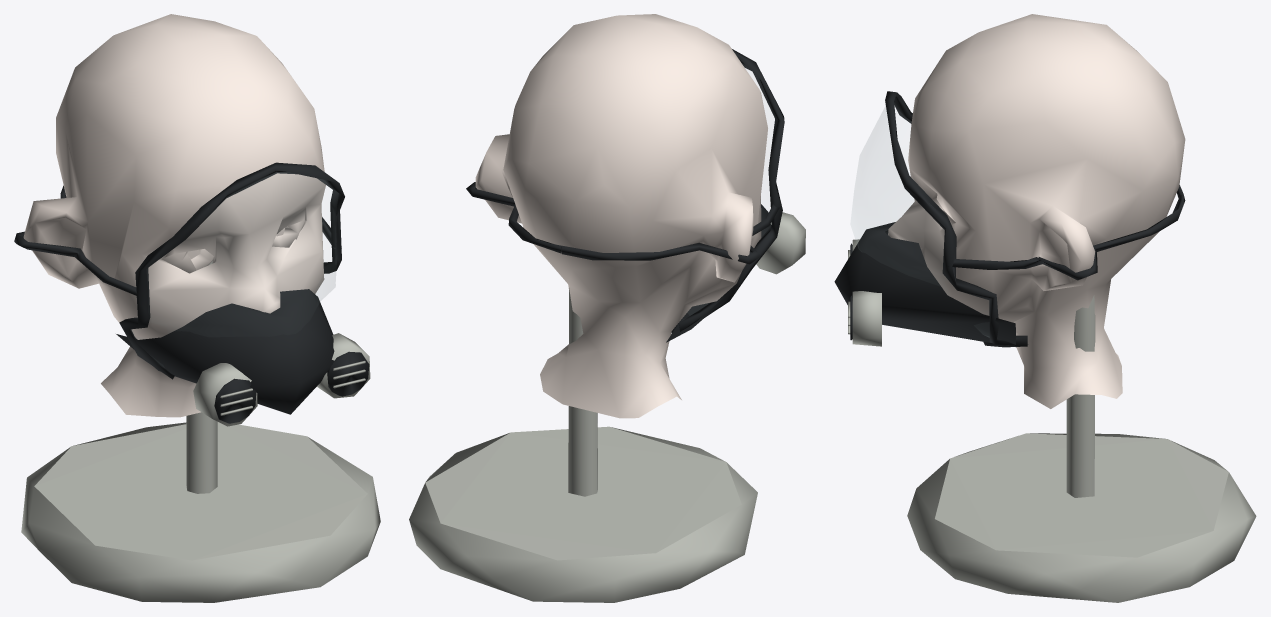
File: rain.acc.hazmat-mask.lod1.glb
The picture shows the model from 3 angles, left to right: view 1: azimuth 30°, elevation 25°; view 2: azimuth 150°, elevation 25°; view 3: azimuth 270°, elevation 25°; orthographic projection. The views are drawn at different scales.
Parts seen in each view (by area): view 1: GEO-rain-head, stand_base, Foundation.Mask.FittedLowerCup, Foundation.Mask.ContinuousSeal, stand_stem, Foundation.Mask.Filter-1, Foundation.Mask.SideStrap-1, GEO-rain-eyes, Foundation.Mask.FilterGrid1, Foundation.Mask.FilterGrid-1, Foundation.Mask.Filter1, Foundation.Mask.ClearVisor; view 2: GEO-rain-head, stand_base, stand_stem, Foundation.Mask.ContinuousSeal, Foundation.Mask.SideStrap-1, Foundation.Mask.Filter-1, Foundation.Mask.SideStrap1, Foundation.Mask.FittedLowerCup; view 3: GEO-rain-head, stand_base, Foundation.Mask.FittedLowerCup, Foundation.Mask.ClearVisor, stand_stem, Foundation.Mask.ContinuousSeal, Foundation.Mask.SideStrap1, Foundation.Mask.Filter1.
Boxes of the visible parts, box(x1,y1,x2,y2) form: GEO-rain-head: box(23, 14, 325, 417); stand_base: box(21, 422, 380, 602); Foundation.Mask.FittedLowerCup: box(116, 289, 334, 414); Foundation.Mask.ContinuousSeal: box(119, 162, 344, 379); stand_stem: box(186, 261, 217, 493); Foundation.Mask.Filter-1: box(193, 363, 257, 426); Foundation.Mask.SideStrap-1: box(14, 185, 137, 296); GEO-rain-eyes: box(161, 220, 305, 273); Foundation.Mask.FilterGrid1: box(327, 351, 369, 396); Foundation.Mask.FilterGrid-1: box(214, 378, 256, 423); Foundation.Mask.Filter1: box(317, 333, 370, 398); Foundation.Mask.ClearVisor: box(315, 256, 336, 303); GEO-rain-head: box(475, 14, 767, 418); stand_base: box(409, 426, 757, 602); stand_stem: box(568, 288, 597, 496); Foundation.Mask.ContinuousSeal: box(678, 49, 784, 331); Foundation.Mask.SideStrap-1: box(561, 204, 779, 264); Foundation.Mask.Filter-1: box(756, 212, 805, 274); Foundation.Mask.SideStrap1: box(466, 182, 561, 253); Foundation.Mask.FittedLowerCup: box(666, 204, 771, 342); GEO-rain-head: box(888, 14, 1185, 408); stand_base: box(907, 433, 1256, 602); Foundation.Mask.FittedLowerCup: box(834, 222, 1028, 347); Foundation.Mask.ClearVisor: box(851, 107, 913, 243); stand_stem: box(1066, 295, 1095, 497); Foundation.Mask.ContinuousSeal: box(885, 91, 1027, 347); Foundation.Mask.SideStrap1: box(947, 194, 1185, 280); Foundation.Mask.Filter1: box(852, 291, 881, 346).
Bounding box in the file's own units: 0.4294 × 0.6222 × 0.4852.
